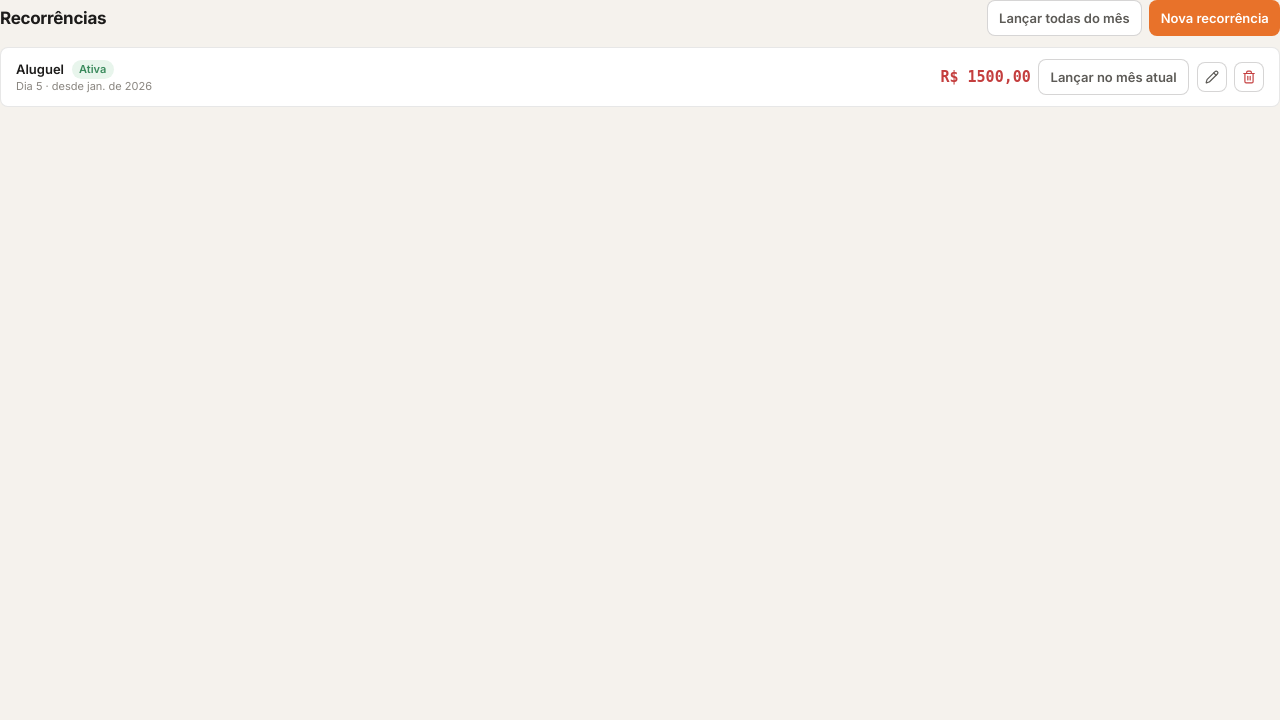
Test: FinanceRecurrenceSection › shows archived options referenced by the recurrence in edit with a badge
Step 1. Click the button named "Editar recorrência Aluguel" → (1212, 77), box [1196,62,1226,92]
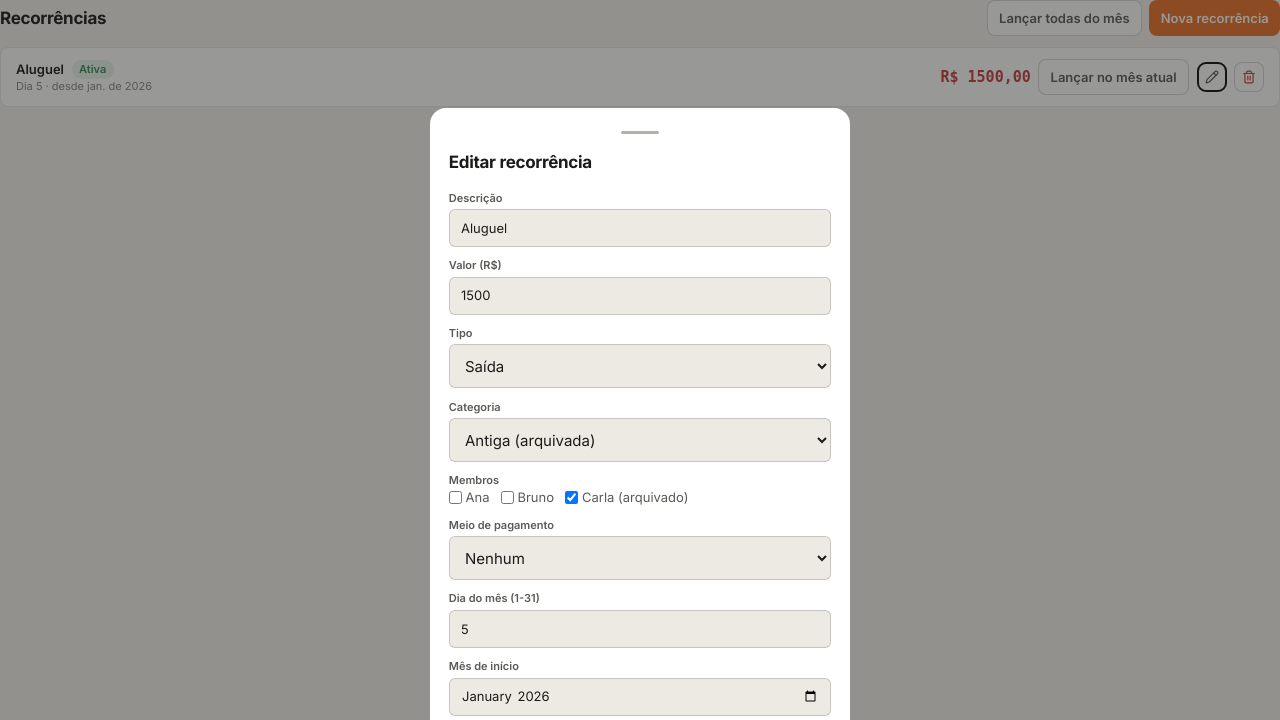
Expected: the dropdown labelled "Categoria" shows "Antiga (arquivada)", [449,418,831,462]
Expected: the checkbox labelled "Carla (arquivado)" is checked, [565,491,578,504]
